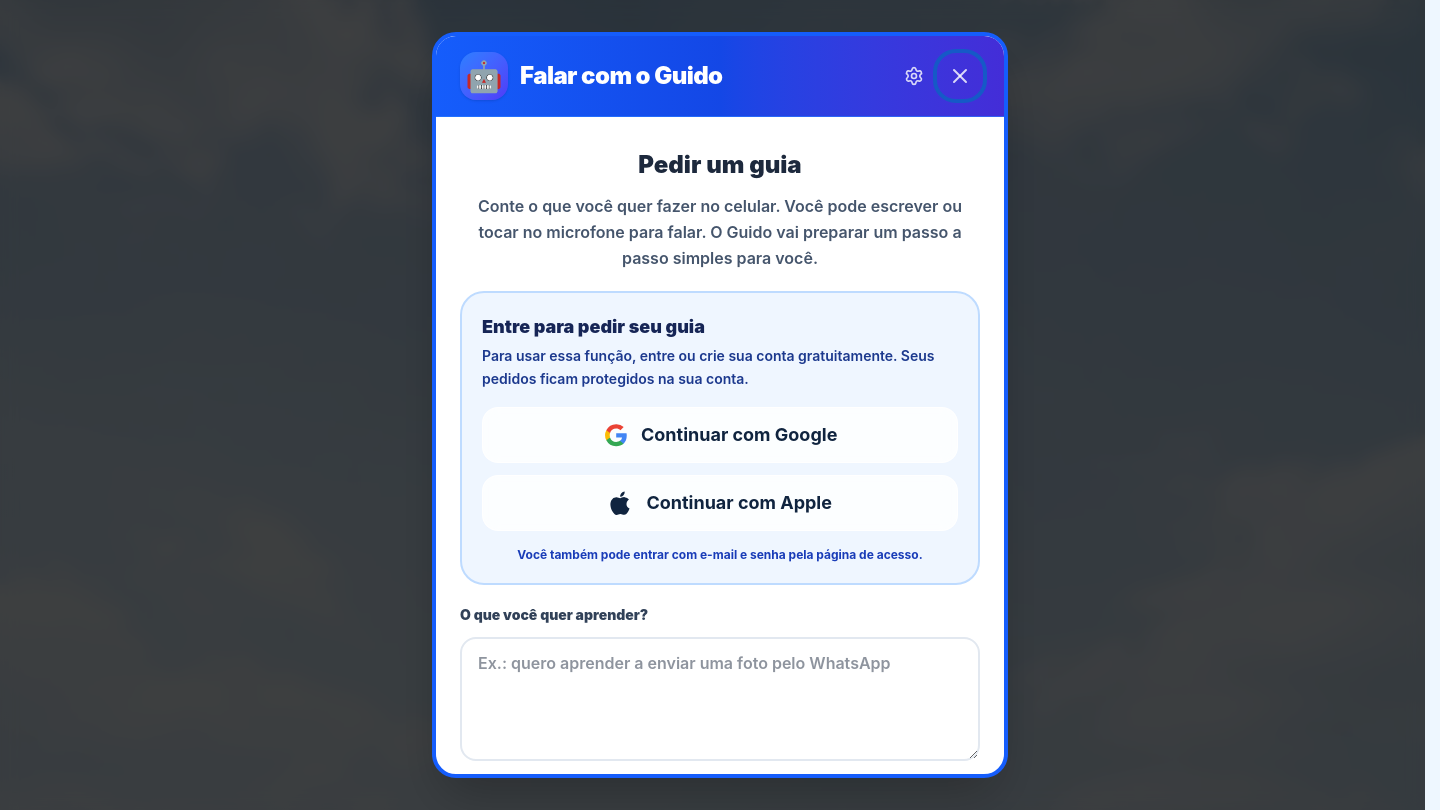
Test: AskGuidoModal - Personalização de Voz e Avatar › ao clicar na engrenagem, abre o menu de tela cheia com avatares e 3 vozes humanas
Note: Clica na engrenagem
Click the button named "Personalizar voz e avatar".
click(914, 76)  # box x1=896 y1=58 x2=932 y2=94
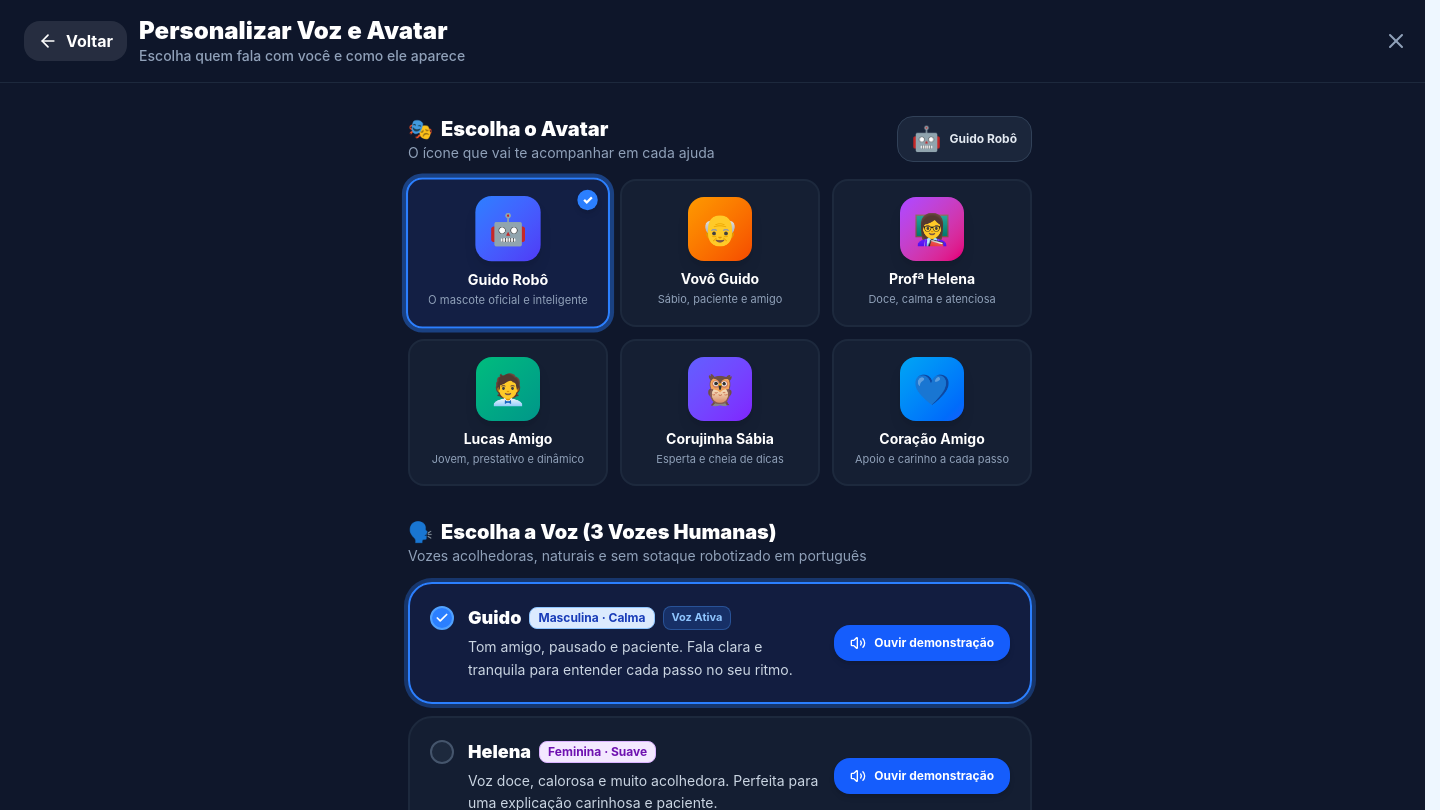
Check: the dialog "Personalizar Voz e Avatar" is shown
Check: the heading "🎭 Escolha o Avatar" is shown, box x1=408 y1=117 x2=608 y2=141
Check: the heading "🗣️ Escolha a Voz (3 Vozes Humanas)" is shown, box x1=408 y1=520 x2=777 y2=544
